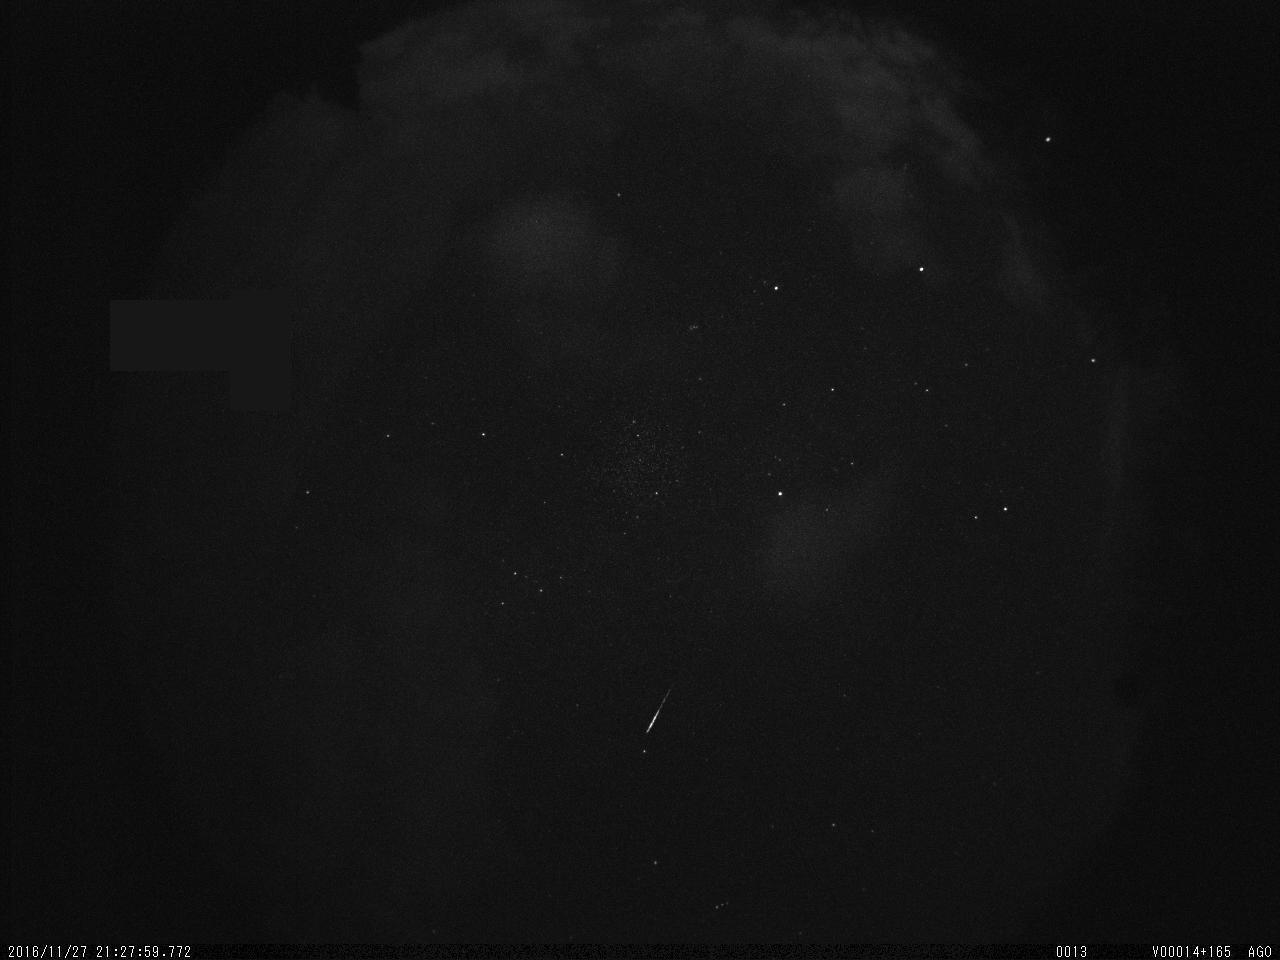Meteor: (642, 680, 676, 739)
